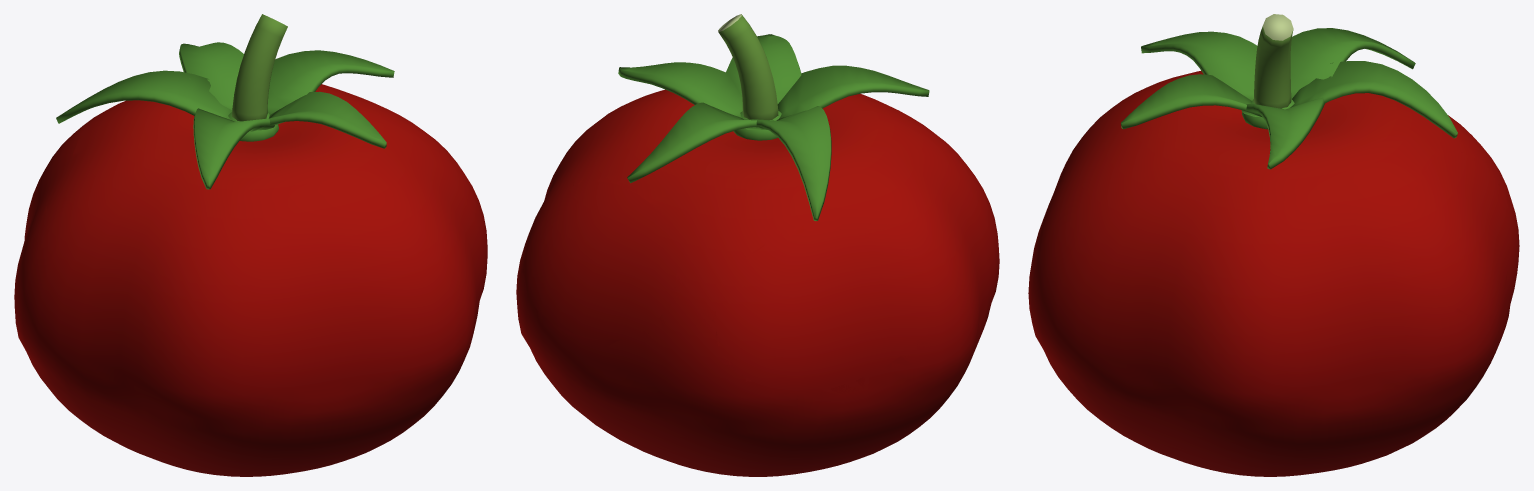
Rendered from tomato_held.glb.
3 views of the same model, side by side, from view 1: azimuth 30°, elevation 25°; view 2: azimuth 150°, elevation 25°; view 3: azimuth 270°, elevation 25° (orthographic). The views are drawn at different scales.
Parts seen in each view (by area): view 1: eat_0_Body, eat_1_Body, eat_0_Calyx, eat_0_Stem; view 2: eat_0_Body, eat_0_Calyx, eat_1_Body, eat_2_Body, eat_0_Stem; view 3: eat_0_Body, eat_1_Body, eat_0_Calyx, eat_0_Stem.
Part boxes in pixels (box(x1,y1,x2,y2)): eat_0_Body: box(14, 84, 487, 476); eat_1_Body: box(15, 89, 487, 472); eat_0_Calyx: box(56, 42, 394, 189); eat_0_Stem: box(232, 14, 287, 121); eat_0_Body: box(516, 89, 999, 476); eat_0_Calyx: box(618, 34, 929, 220); eat_1_Body: box(516, 92, 999, 476); eat_2_Body: box(520, 177, 940, 405); eat_0_Stem: box(718, 14, 778, 120); eat_0_Body: box(1028, 71, 1519, 476); eat_1_Body: box(1028, 72, 1516, 476); eat_0_Calyx: box(1121, 28, 1457, 169); eat_0_Stem: box(1253, 14, 1293, 108).
Bounding box in the file's own units: 0.0914 × 0.085 × 0.0875.
